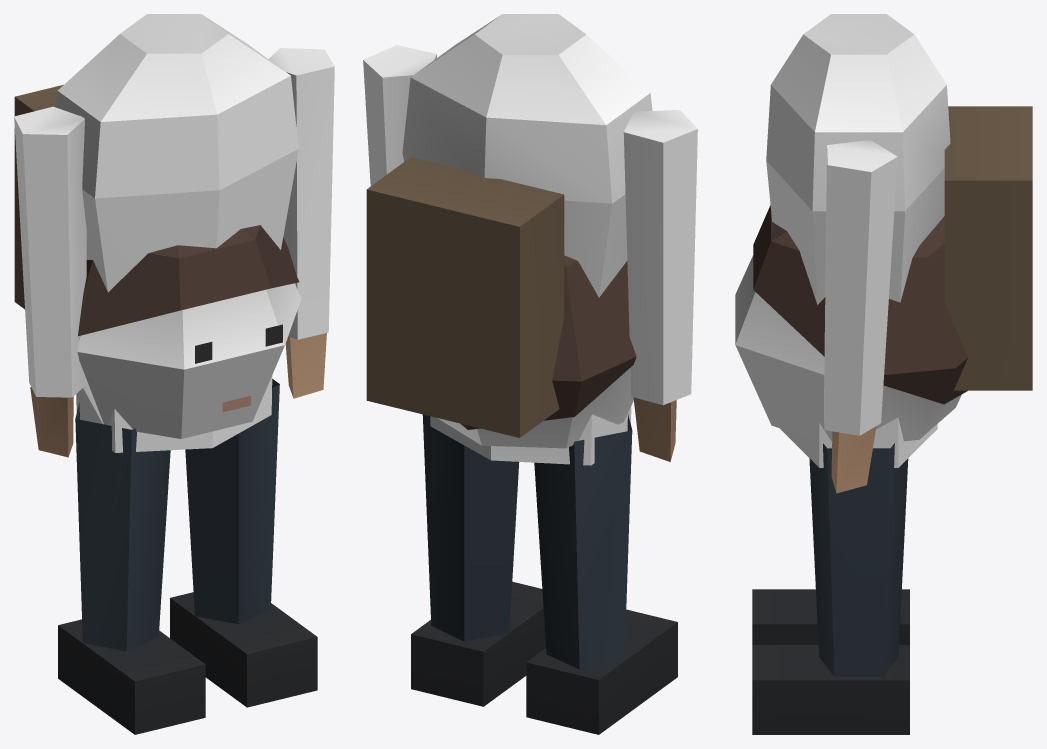
File: walker.glb
3 views of the same model, side by side, from view 1: azimuth 30°, elevation 25°; view 2: azimuth 150°, elevation 25°; view 3: azimuth 270°, elevation 25° (orthographic). The views are drawn at different scales.
Parts seen in each view (by area): view 1: WalkerBody, WalkerHead; view 2: WalkerBody, WalkerHead; view 3: WalkerBody, WalkerHead.
Part boxes in pixels (left/top/right/bottom): WalkerBody: left=14, top=14, right=334, bottom=734; WalkerHead: left=77, top=225, right=301, bottom=438; WalkerBody: left=363, top=14, right=697, bottom=734; WalkerHead: left=437, top=255, right=636, bottom=448; WalkerBody: left=752, top=14, right=1032, bottom=734; WalkerHead: left=735, top=205, right=968, bottom=442.
Bounding box in the file's own units: 0.3999 × 0.78 × 0.3305.
